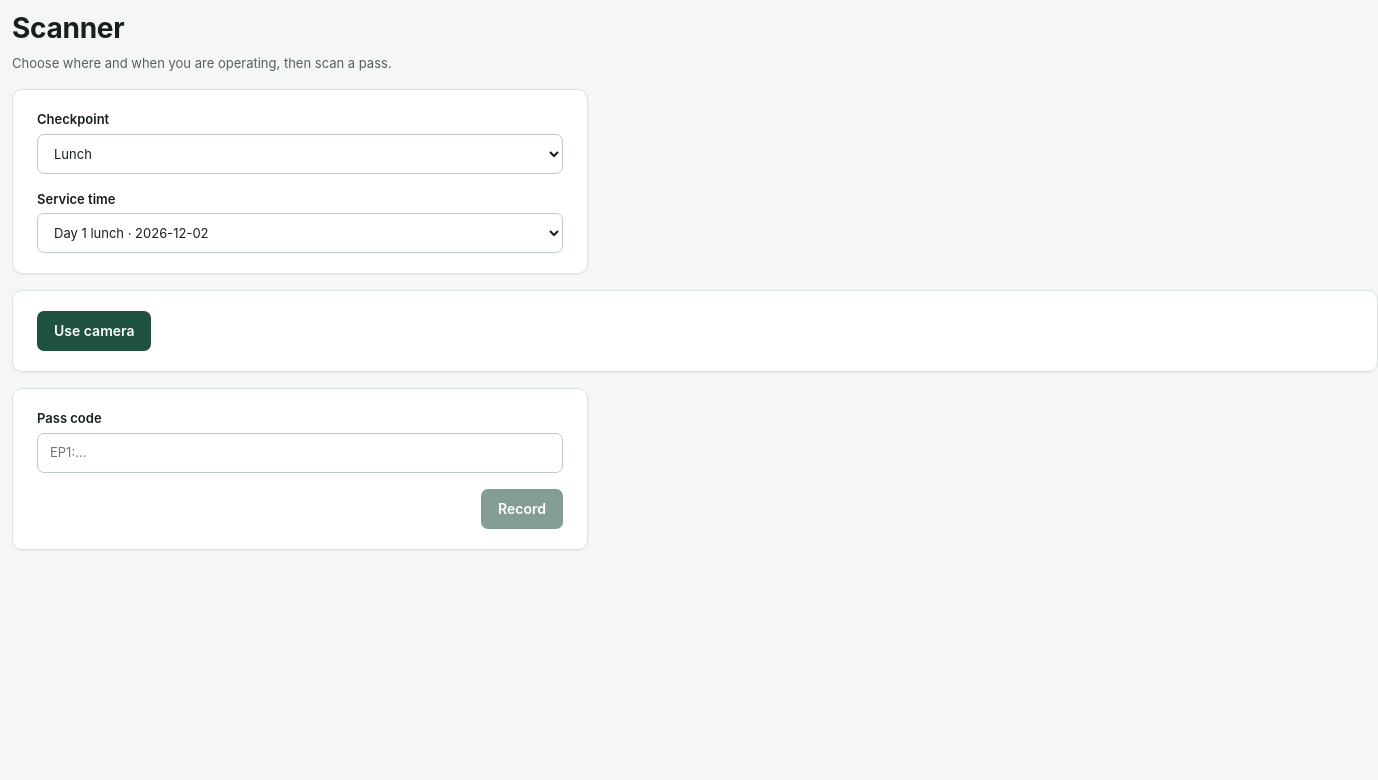
scanner › a malformed code is refused on the page, without sending anything
Select "Lunch" in the dropdown labelled "Checkpoint". click: (300, 154)
box: [37,134,563,174]
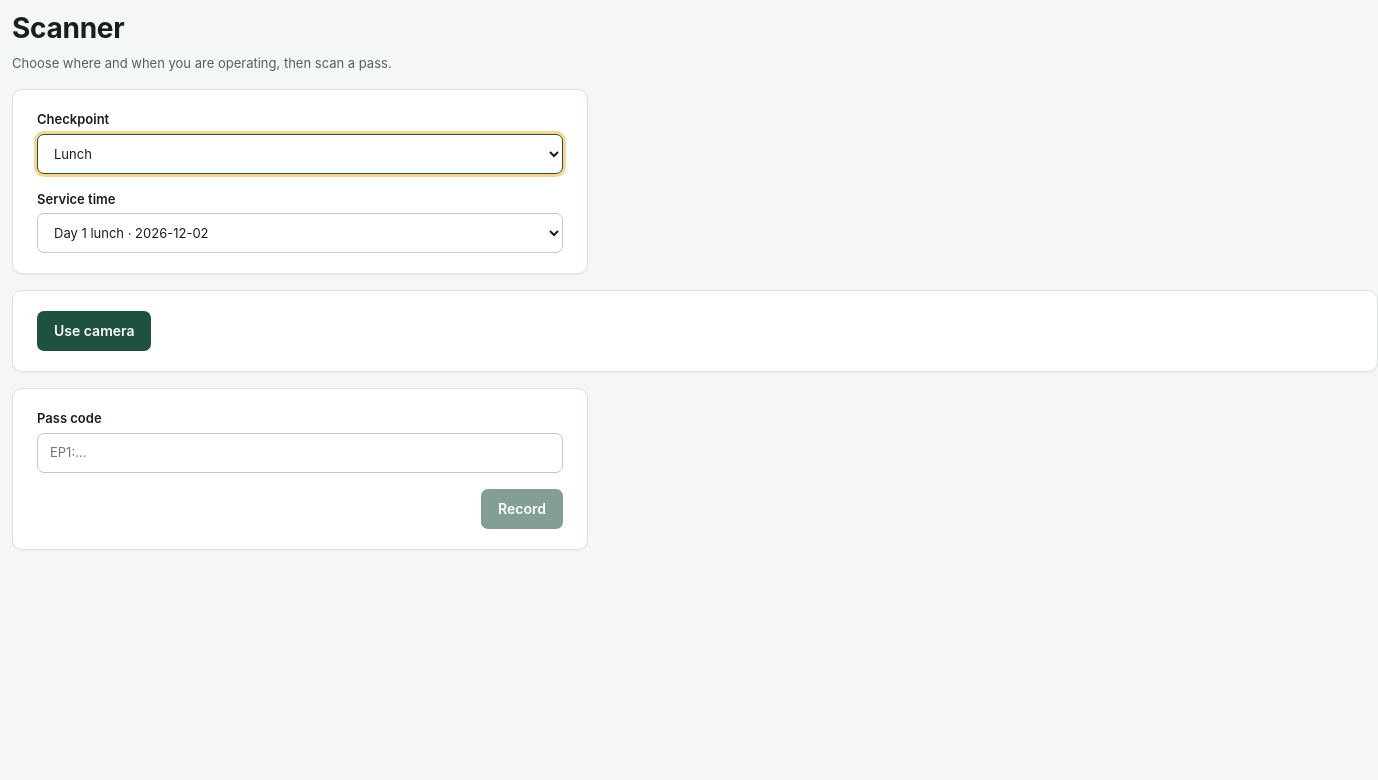
Select "Day 1 lunch · 2026-12-02" in the dropdown labelled "Service time". click: (300, 233)
box: [37,213,563,253]
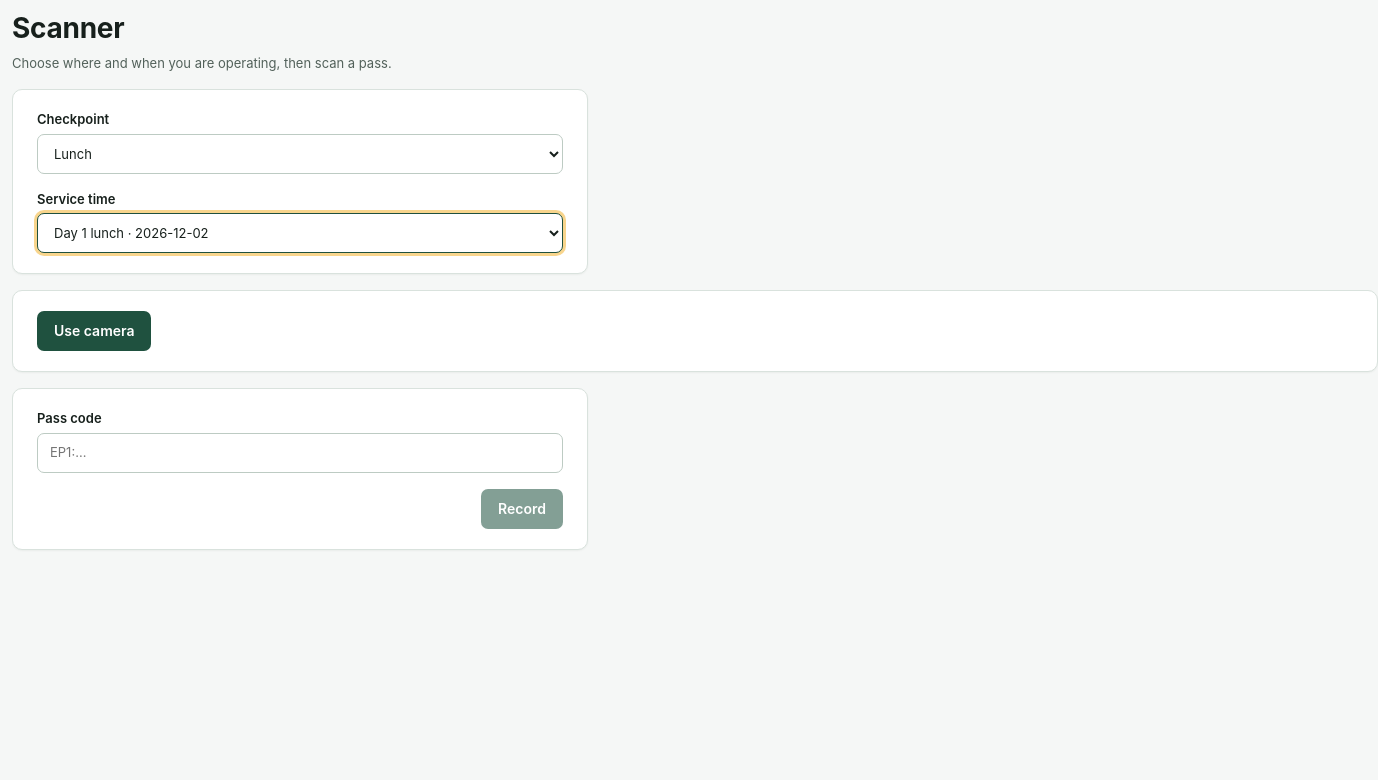
Type "not-a-pass" into the field labelled "Pass code". click: (300, 453)
box: [37,433,563,473]
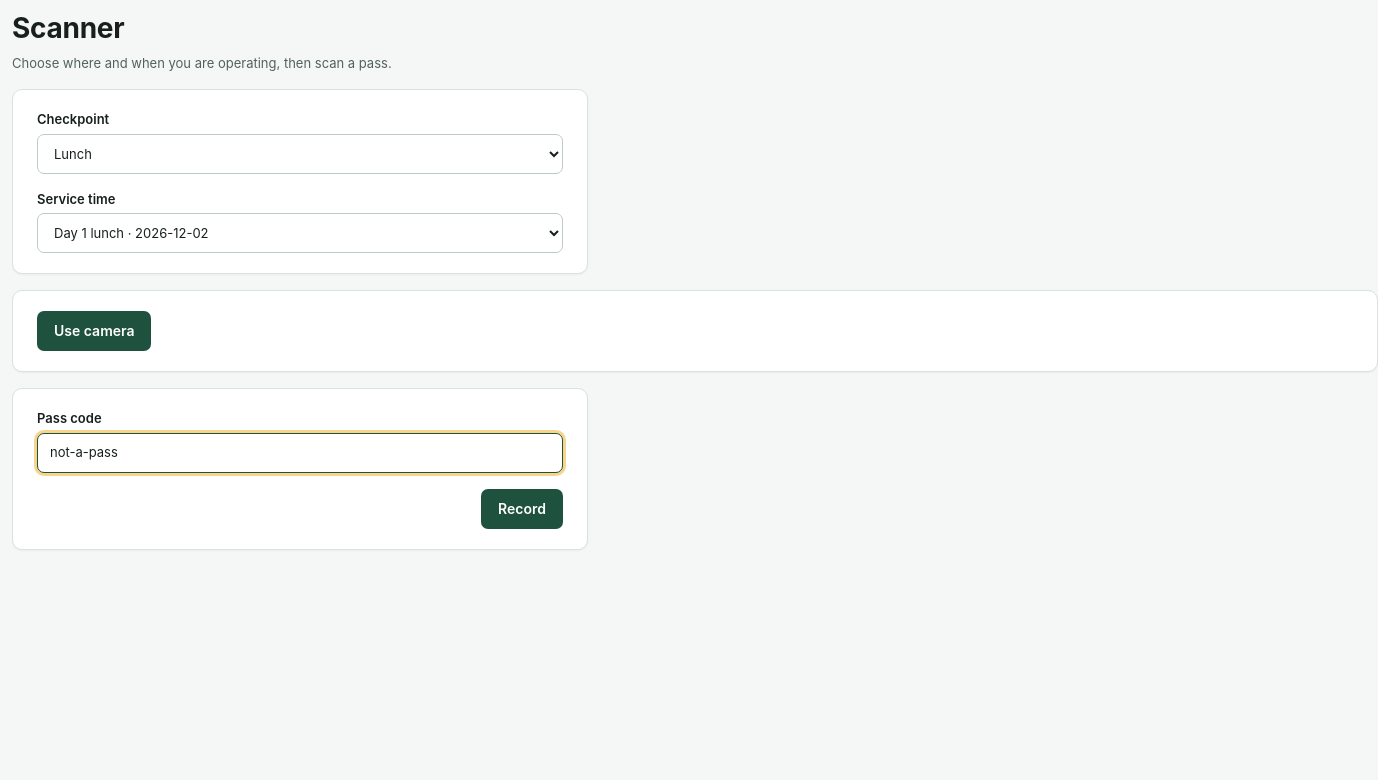
Click the button "Record". click: (522, 509)
box: [481,489,563,529]
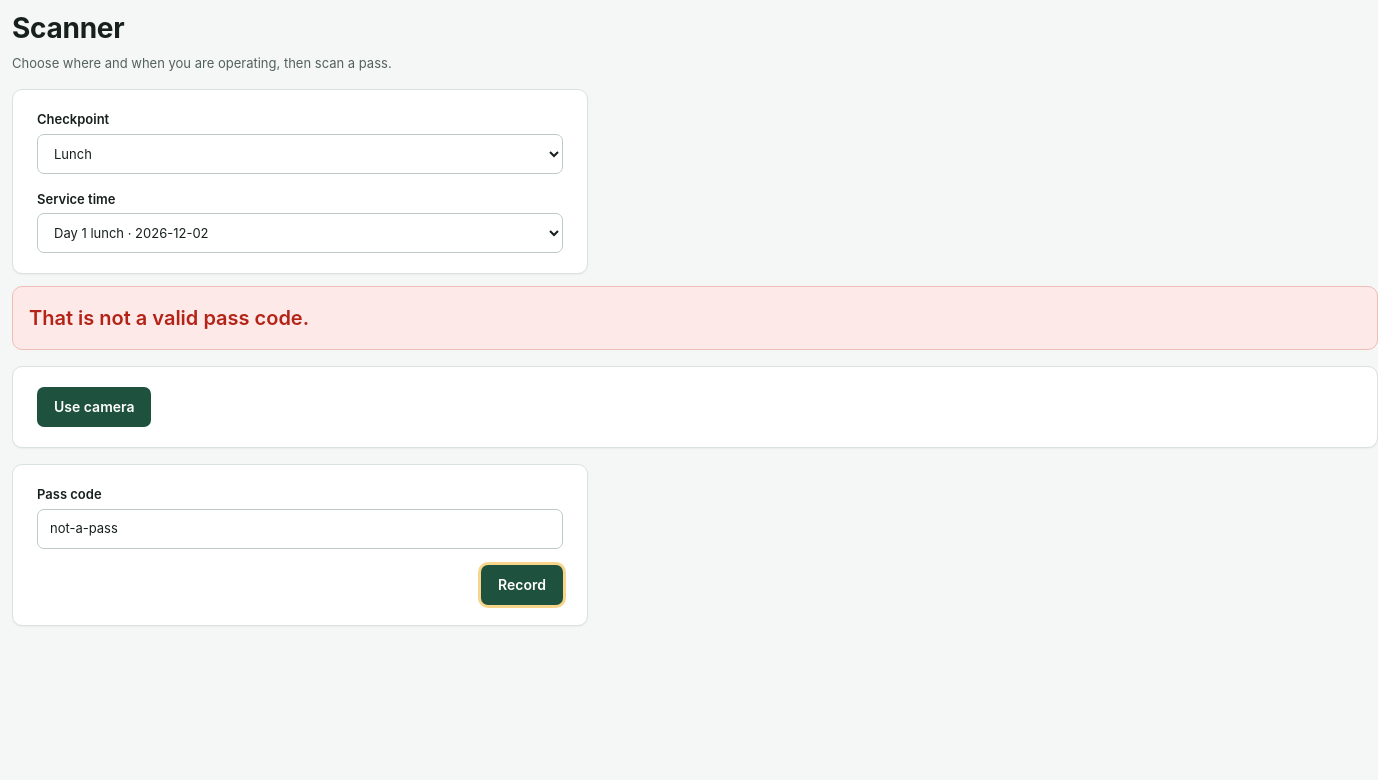
Expected: the text "That is not a valid pass code." is shown, [12,286,1377,350]
